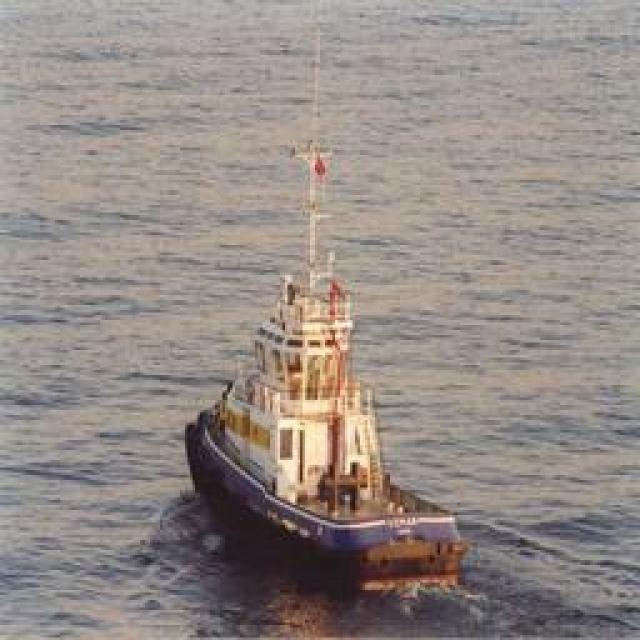CIV_Ship: (184, 138, 466, 588)
